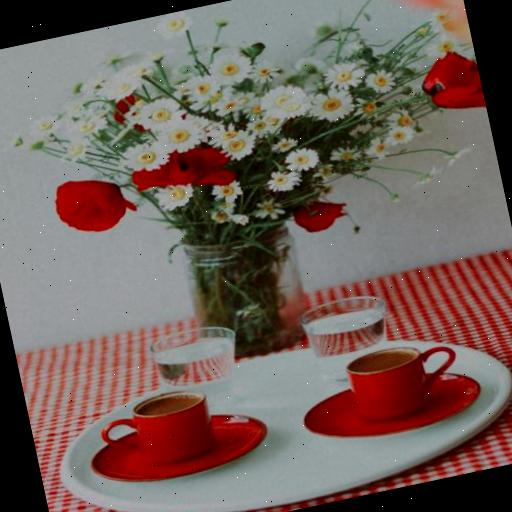cup: (342, 334, 466, 426), (96, 384, 218, 477)
